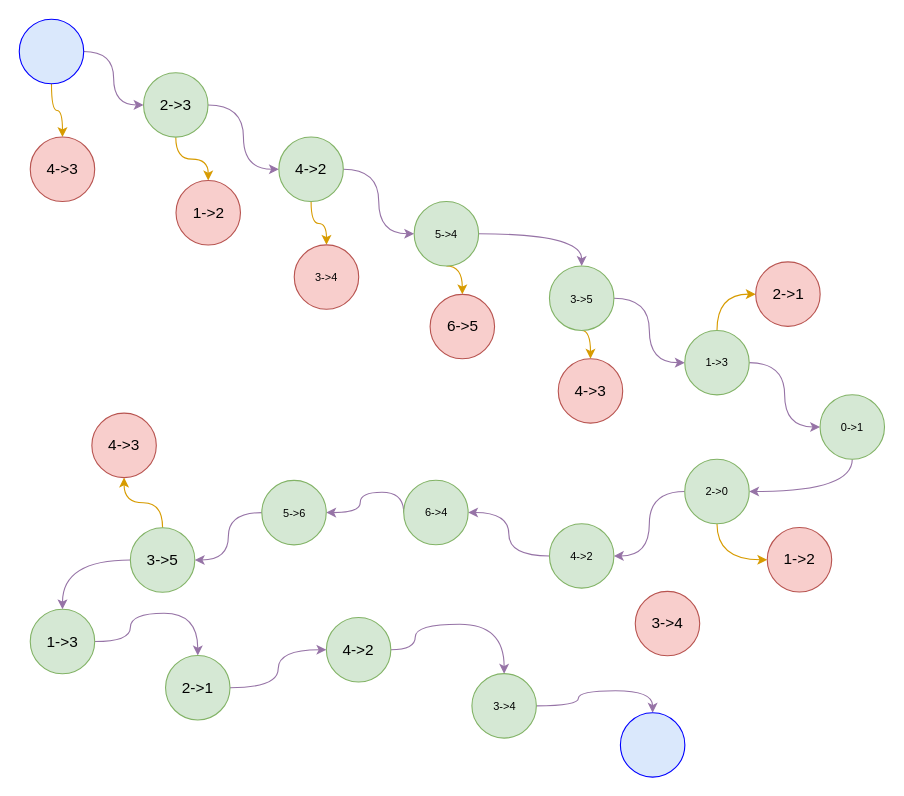
This 904x796 diagram has some shape labels left out. The shapes that lost their labels are listed below. From the top down, each one's centre as x and y in pixels, then its label:
[51,51]: Inicio
[652,744]: Solución Correcta
